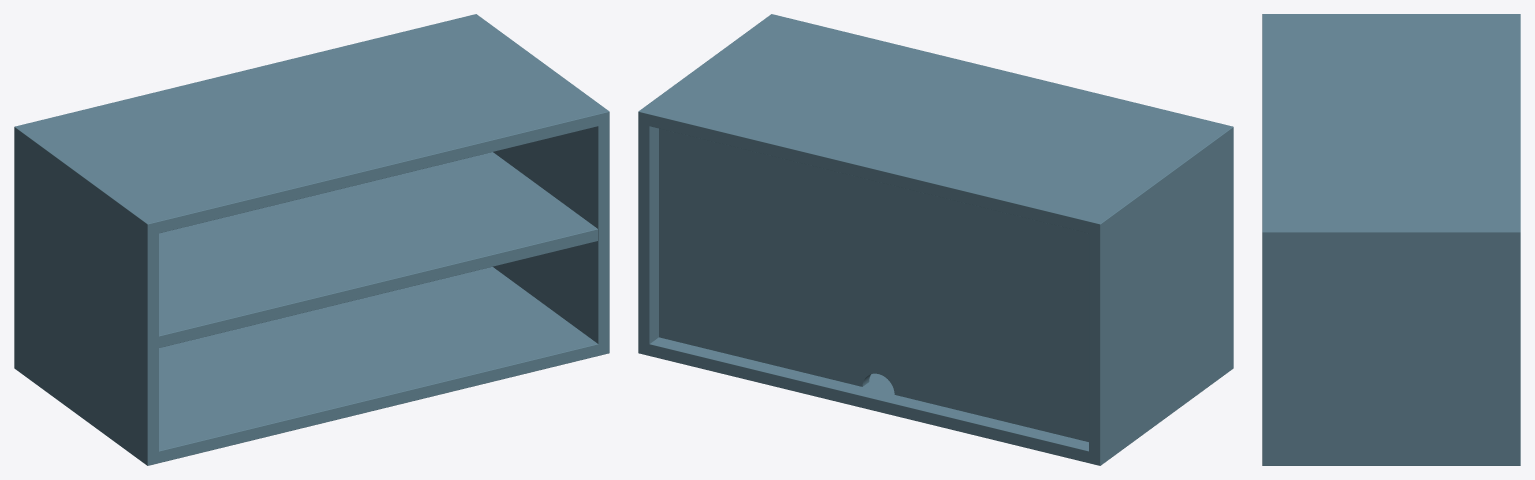
Rendered from MOD-2X1-S-B-AP-AC.glb.
3 views of the same model, side by side, from view 1: azimuth 30°, elevation 25°; view 2: azimuth 150°, elevation 25°; view 3: azimuth 270°, elevation 25° (orthographic). The views are drawn at different scales.
Bounding box in the file's own units: 720 × 360 × 360.
